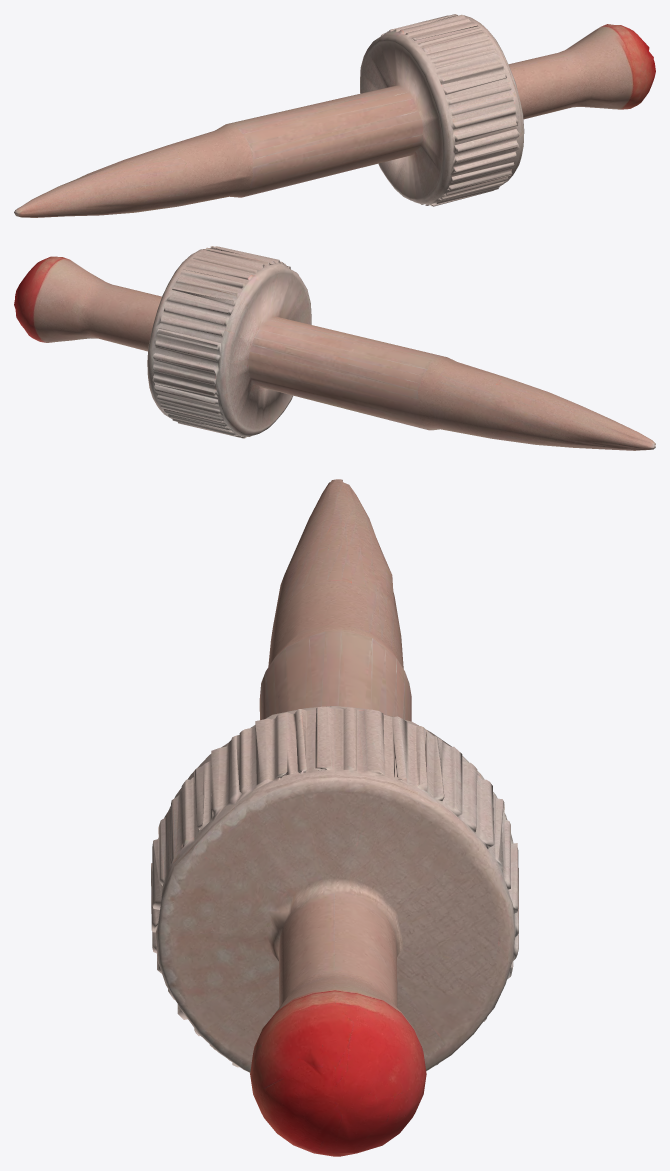
The model's file is pipette.glb.
The picture shows the model from 3 angles, top to bottom: view 1: azimuth 30°, elevation 25°; view 2: azimuth 150°, elevation 25°; view 3: azimuth 270°, elevation 25°; orthographic projection. The views are drawn at different scales.
Bounding box in the file's own units: 0.958 × 0.2364 × 0.2412.
1 material, 1 textured.
